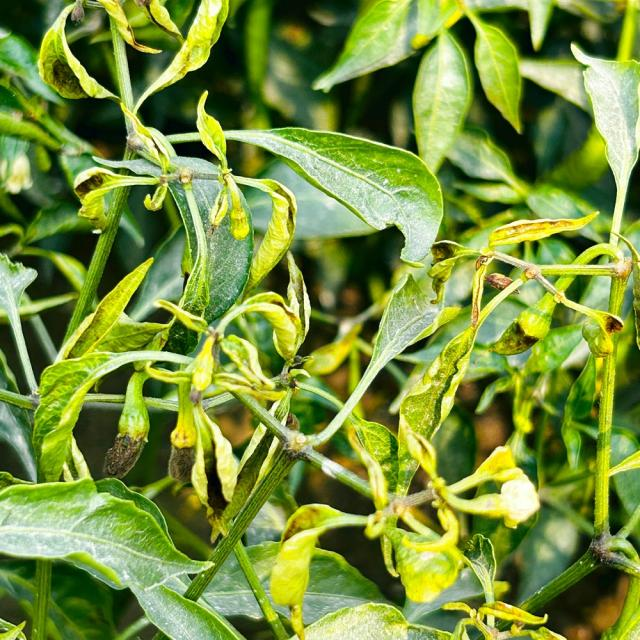Chilli_Leaf_Curl: (1, 1, 638, 638), (0, 476, 246, 638), (218, 124, 446, 264), (568, 40, 639, 246)
